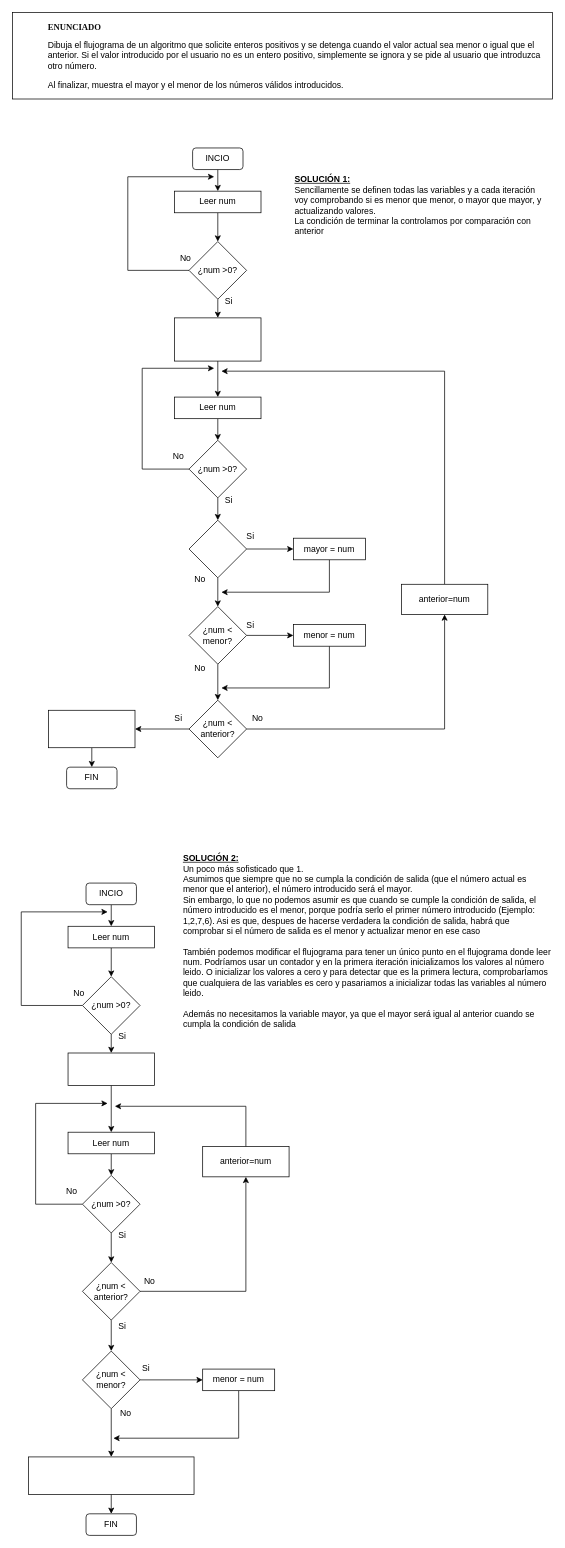
The diagram is 565 pixels wide and 1548 high, and some of its shapes have lost their labels. Each missing label, with the centre of its shape:
mayor = num menor = num anterior = num: the point at 217,339
menor = num anterior = num: the point at 110,1068
print anterior (es el maximo) print menor (es el minimo): the point at 111,1475
print mayor print menor: the point at 91,729
¿num > mayor?: the point at 217,548
